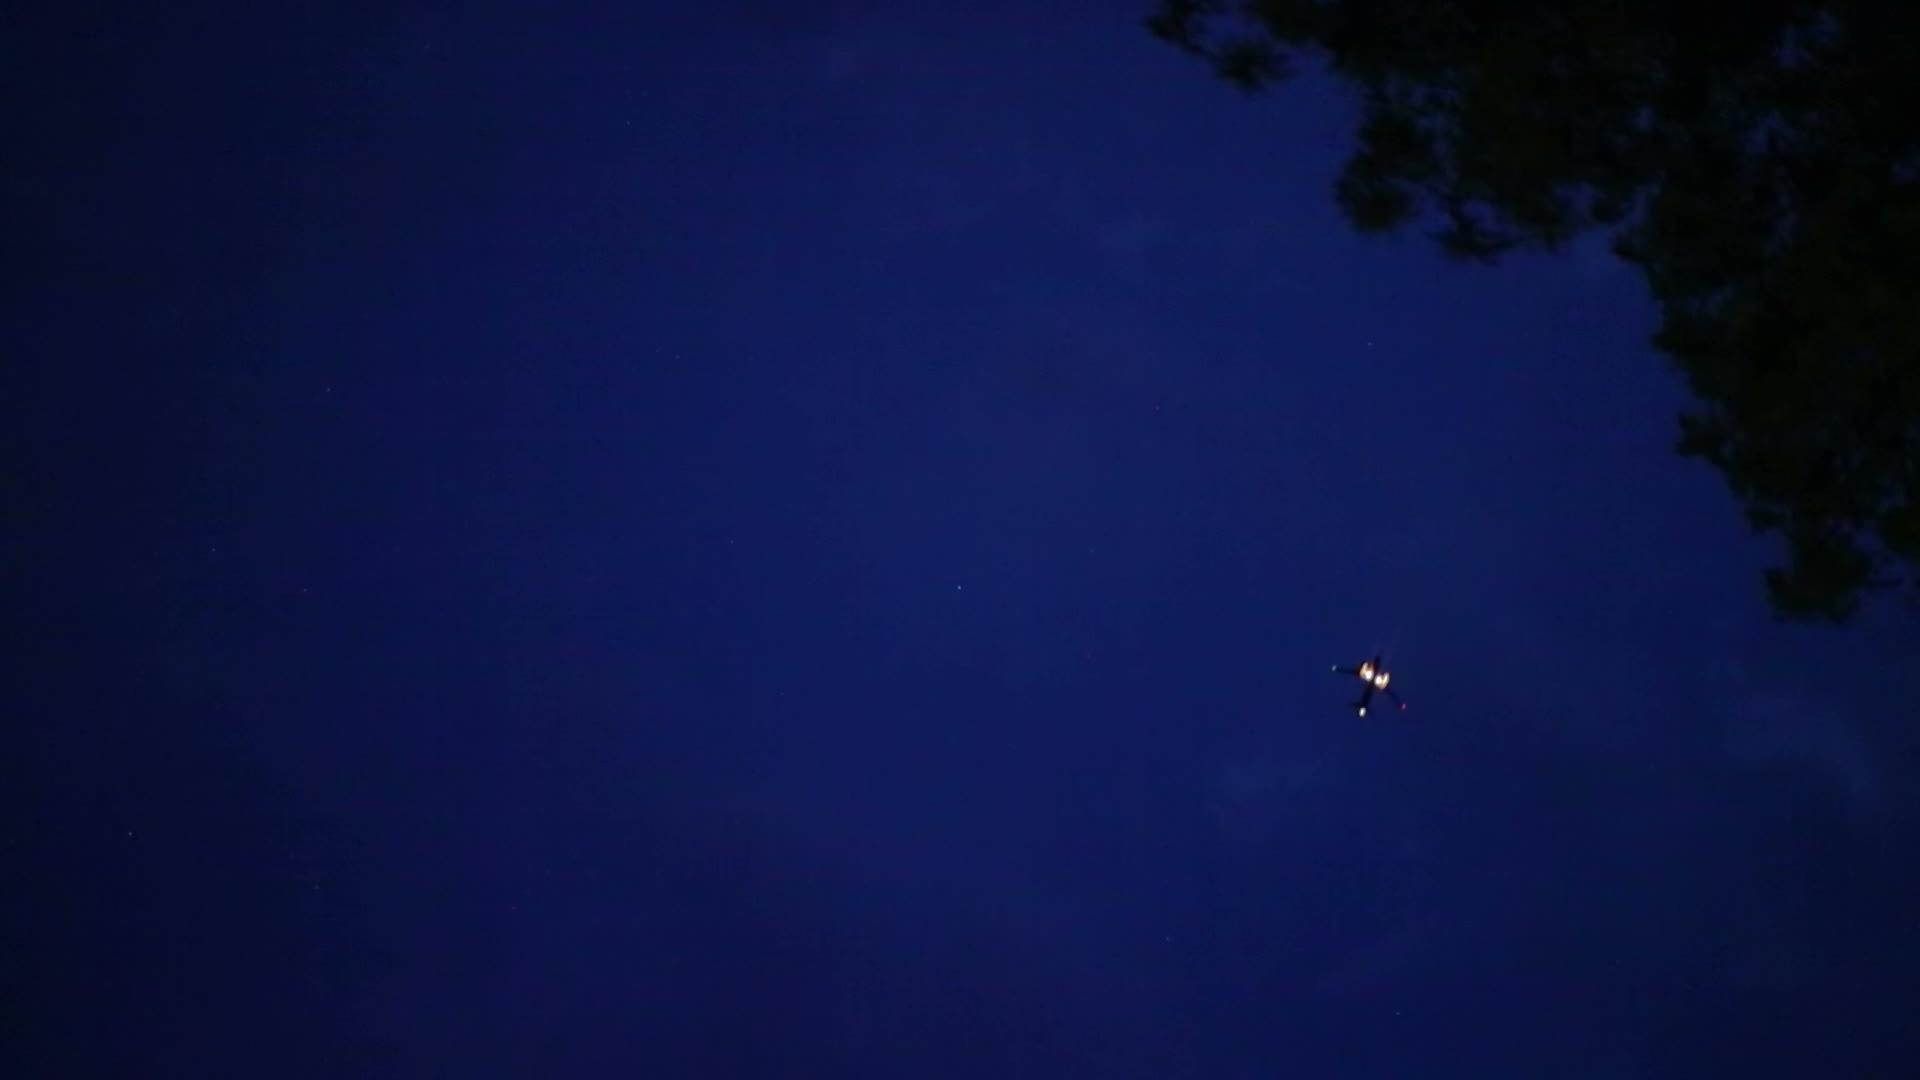Plane: (1313, 640, 1429, 735)
